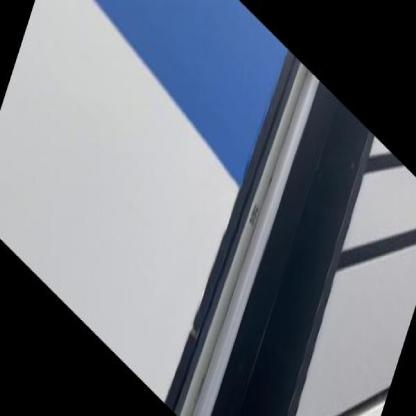light_off: (138, 0, 353, 415)
